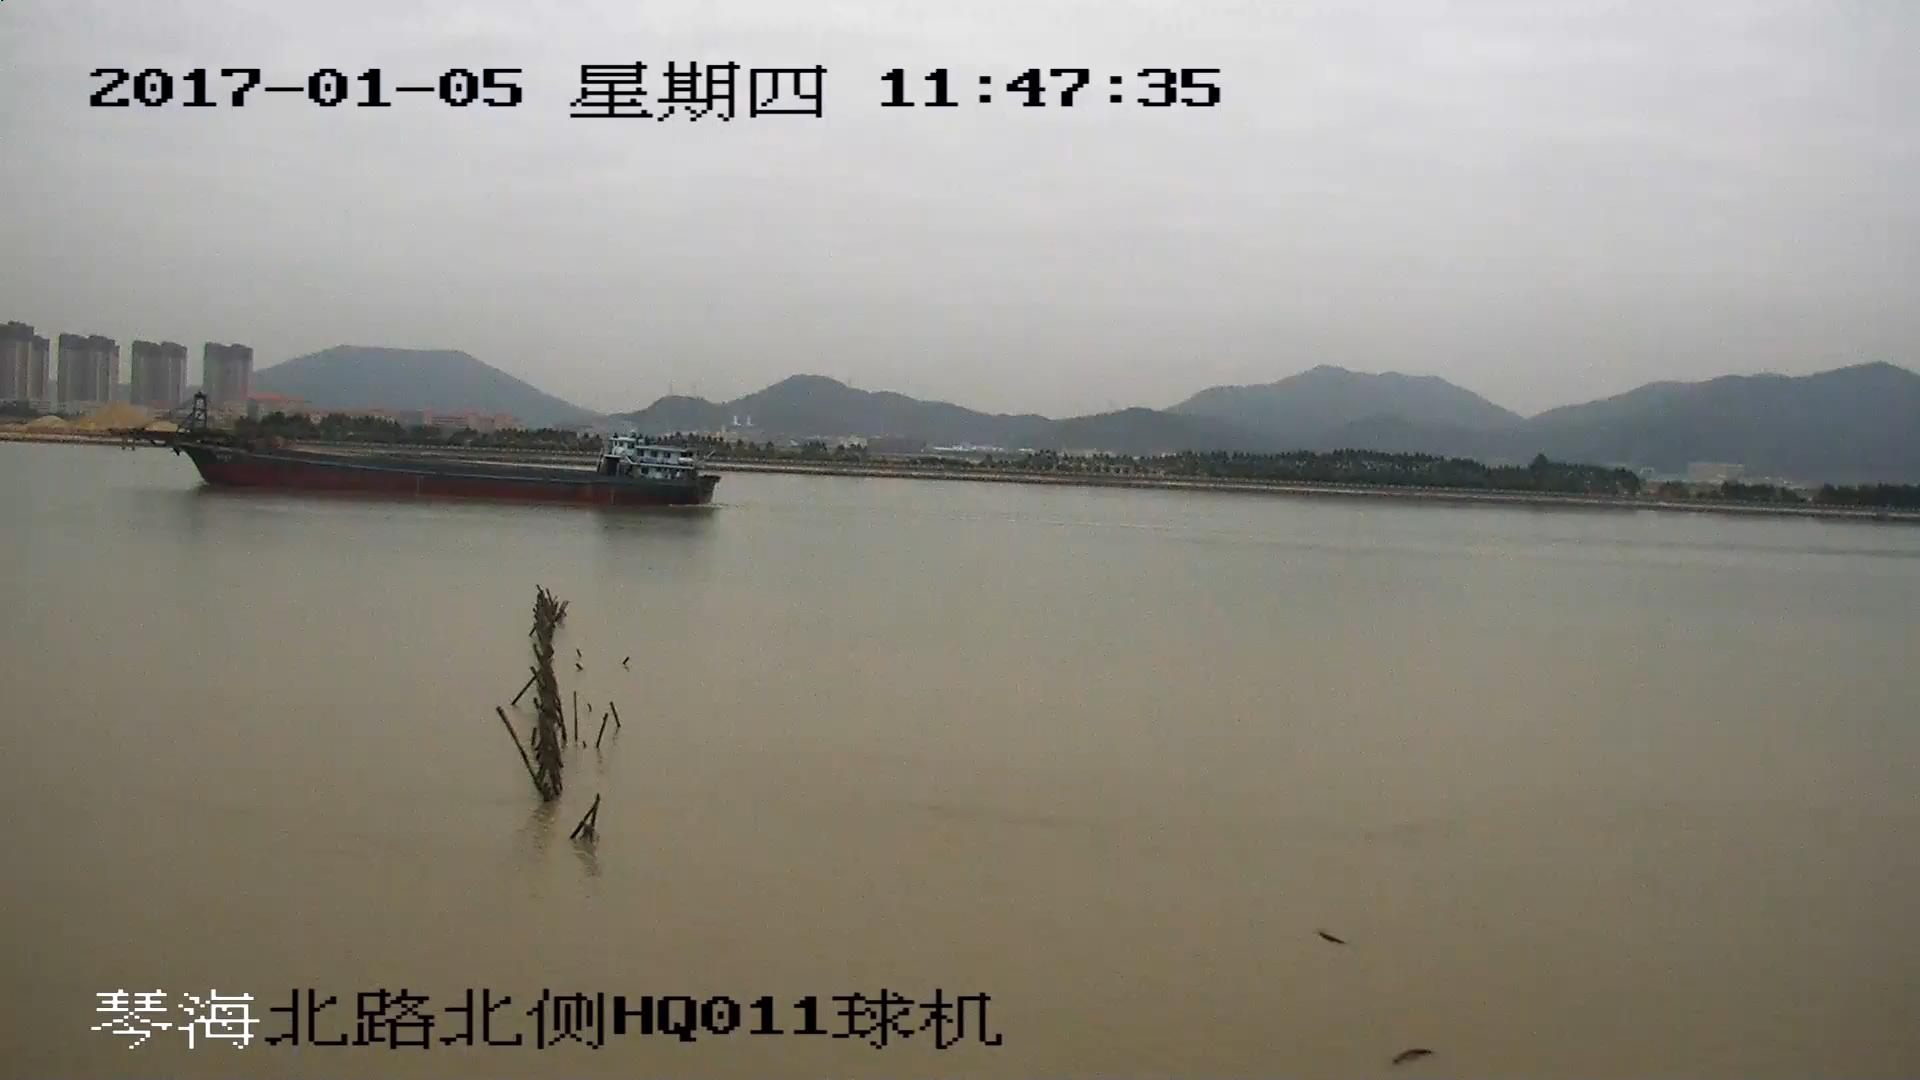bulk cargo carrier: (113, 399, 723, 507)
